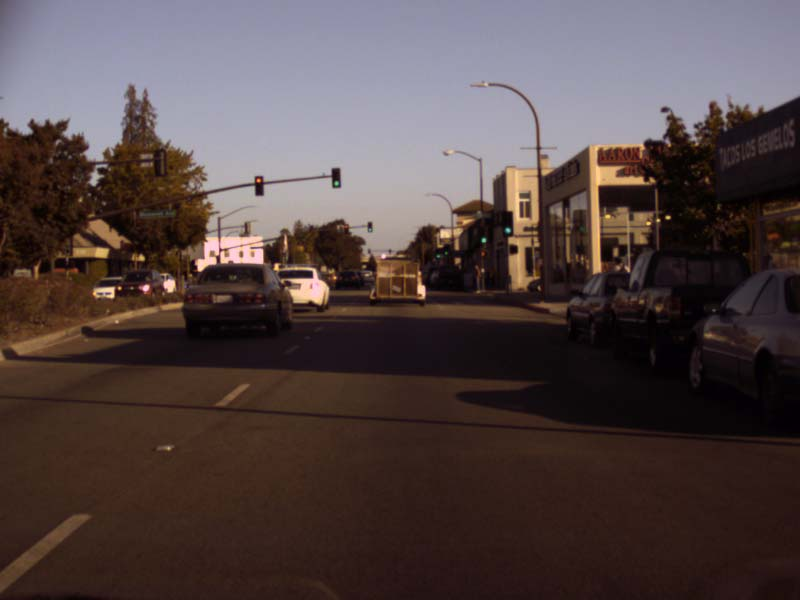Green: (502, 211, 513, 235), (331, 167, 340, 186), (479, 228, 487, 243), (366, 221, 372, 232), (444, 244, 449, 255), (435, 248, 440, 258)
Red: (254, 176, 263, 195), (344, 224, 347, 234)
